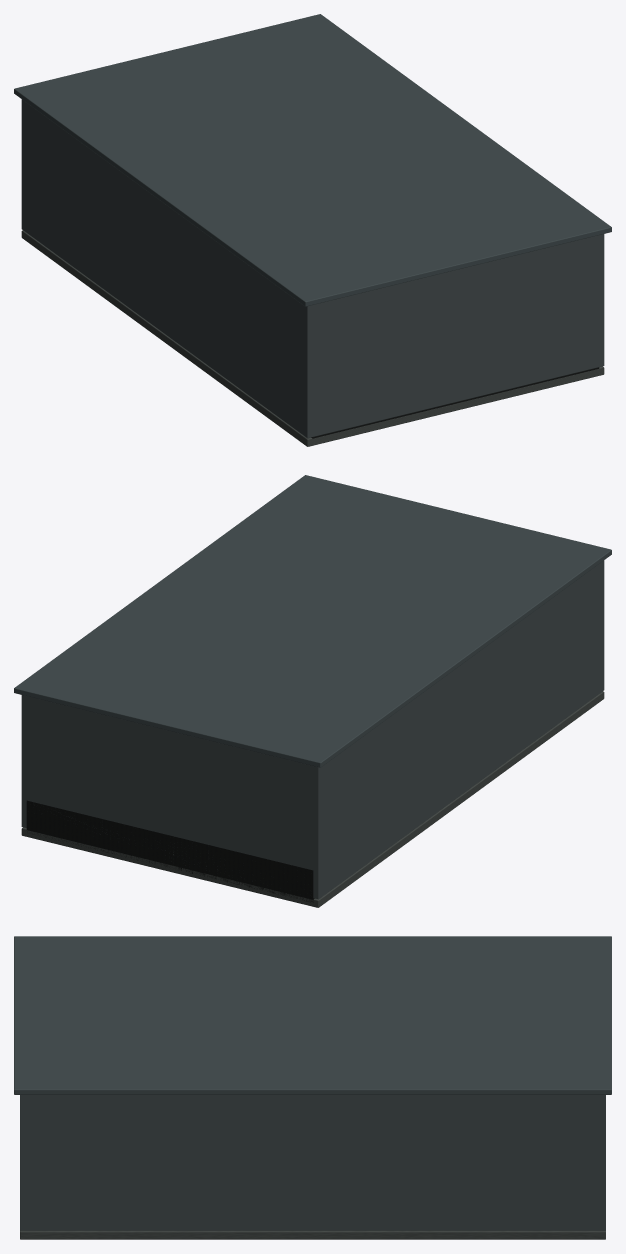
The model's file is AR_CinemaAuditorium.fbx.
3 views of the same model, one above another, from view 1: azimuth 30°, elevation 25°; view 2: azimuth 150°, elevation 25°; view 3: azimuth 270°, elevation 25° (orthographic). The views are drawn at different scales.
Visible parts, largest first — view 1: AR_CinemaAuditorium_Roof, AR_CinemaAuditorium_ScreenWall, AR_CinemaAuditorium_SideWall-1, AR_CinemaAuditorium_Foundation, AR_CinemaAuditorium_SideWall1, AR_CinemaAuditorium_FrontFloor; view 2: AR_CinemaAuditorium_Roof, AR_CinemaAuditorium_SideWall-1, AR_CinemaAuditorium_RearWall, AR_CinemaAuditorium_RearCorridor, AR_CinemaAuditorium_Foundation, AR_CinemaAuditorium_SideWall1; view 3: AR_CinemaAuditorium_Roof, AR_CinemaAuditorium_SideWall1, AR_CinemaAuditorium_Foundation, AR_CinemaAuditorium_RearWall, AR_CinemaAuditorium_ScreenWall.
Part boxes in pixels (box(x1,y1,x2,y2)): AR_CinemaAuditorium_Roof: box(14, 14, 611, 306); AR_CinemaAuditorium_ScreenWall: box(304, 234, 603, 437); AR_CinemaAuditorium_SideWall-1: box(21, 99, 311, 438); AR_CinemaAuditorium_Foundation: box(21, 230, 604, 446); AR_CinemaAuditorium_SideWall1: box(600, 234, 604, 366); AR_CinemaAuditorium_FrontFloor: box(311, 367, 599, 438); AR_CinemaAuditorium_Roof: box(14, 475, 611, 767); AR_CinemaAuditorium_SideWall-1: box(314, 561, 604, 898); AR_CinemaAuditorium_RearWall: box(21, 695, 321, 898); AR_CinemaAuditorium_RearCorridor: box(26, 800, 314, 902); AR_CinemaAuditorium_Foundation: box(21, 691, 604, 907); AR_CinemaAuditorium_SideWall1: box(21, 695, 25, 827); AR_CinemaAuditorium_Roof: box(14, 936, 611, 1094); AR_CinemaAuditorium_SideWall1: box(20, 1095, 605, 1230); AR_CinemaAuditorium_Foundation: box(20, 1230, 605, 1239); AR_CinemaAuditorium_RearWall: box(600, 1095, 605, 1230); AR_CinemaAuditorium_ScreenWall: box(20, 1095, 25, 1230).
Bounding box in the file's own units: 1240 × 574 × 2040.
Materials: 12 (6 with a texture image).
